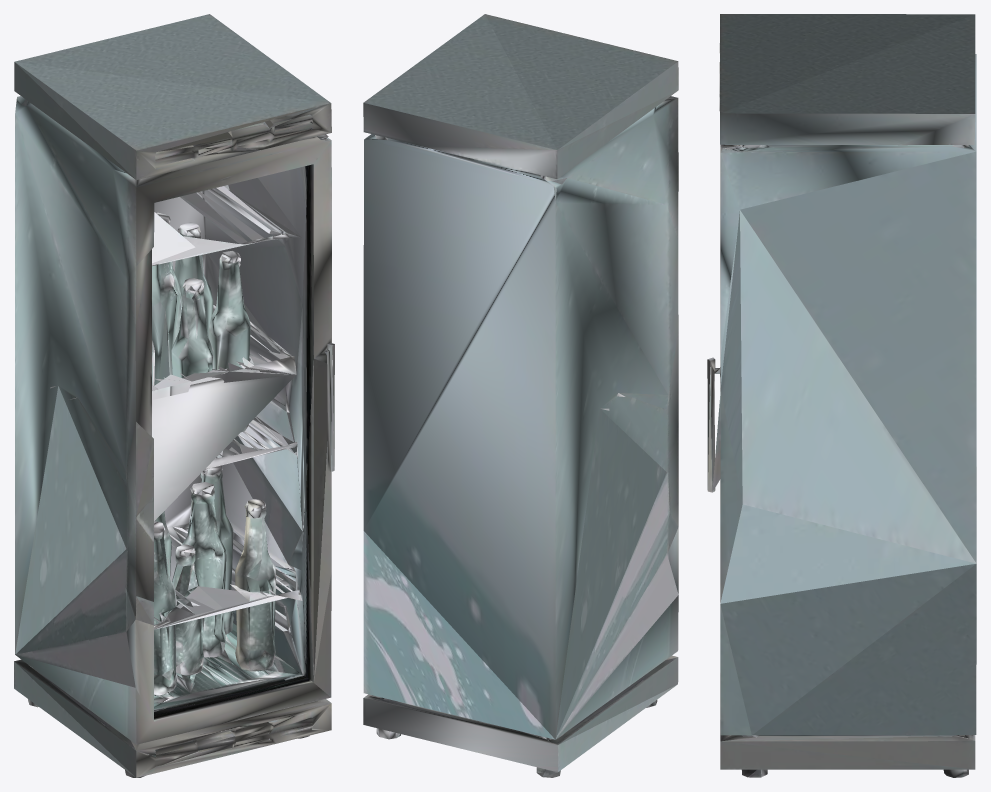
File: perk_fv_lifeline.glb
3 renders of one model, left to right at view 1: azimuth 30°, elevation 25°; view 2: azimuth 150°, elevation 25°; view 3: azimuth 270°, elevation 25°, orthographic. The views are drawn at different scales.
Visible parts, largest first — view 1: perk_fv_lifeline; view 2: perk_fv_lifeline; view 3: perk_fv_lifeline.
Part boxes in pixels (box(x1,y1,x2,y2)): perk_fv_lifeline: box(14, 14, 334, 777); perk_fv_lifeline: box(363, 14, 678, 777); perk_fv_lifeline: box(707, 14, 976, 777).
Size of the model in its own units: 0.6686 by 2 by 0.7304.
Materials: 1 (1 with a texture image).
